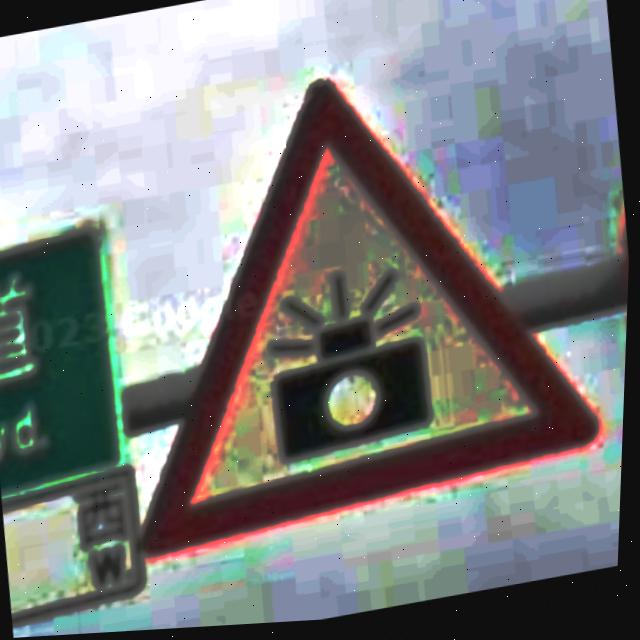speedcamera: (145, 86, 602, 557)
